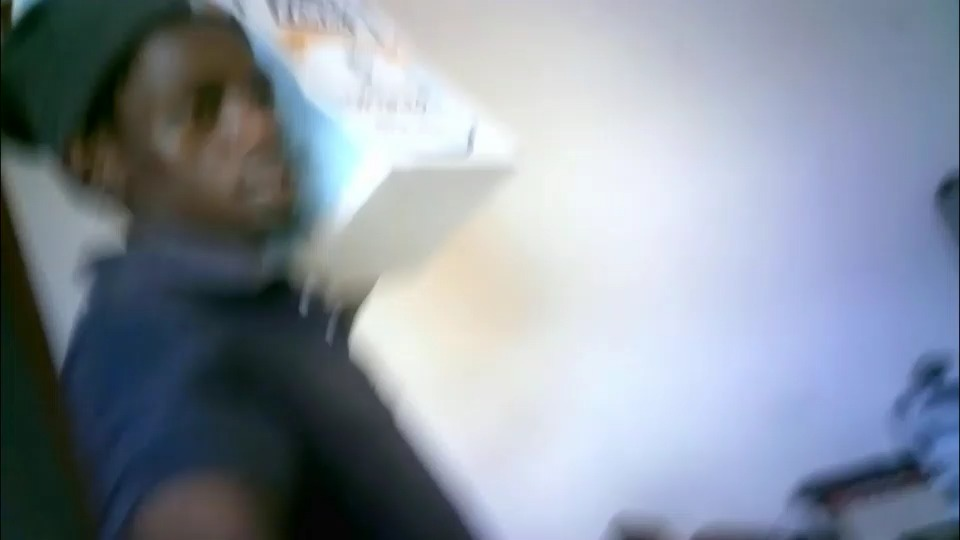wheat_flour_blue_label: (222, 2, 520, 288)
